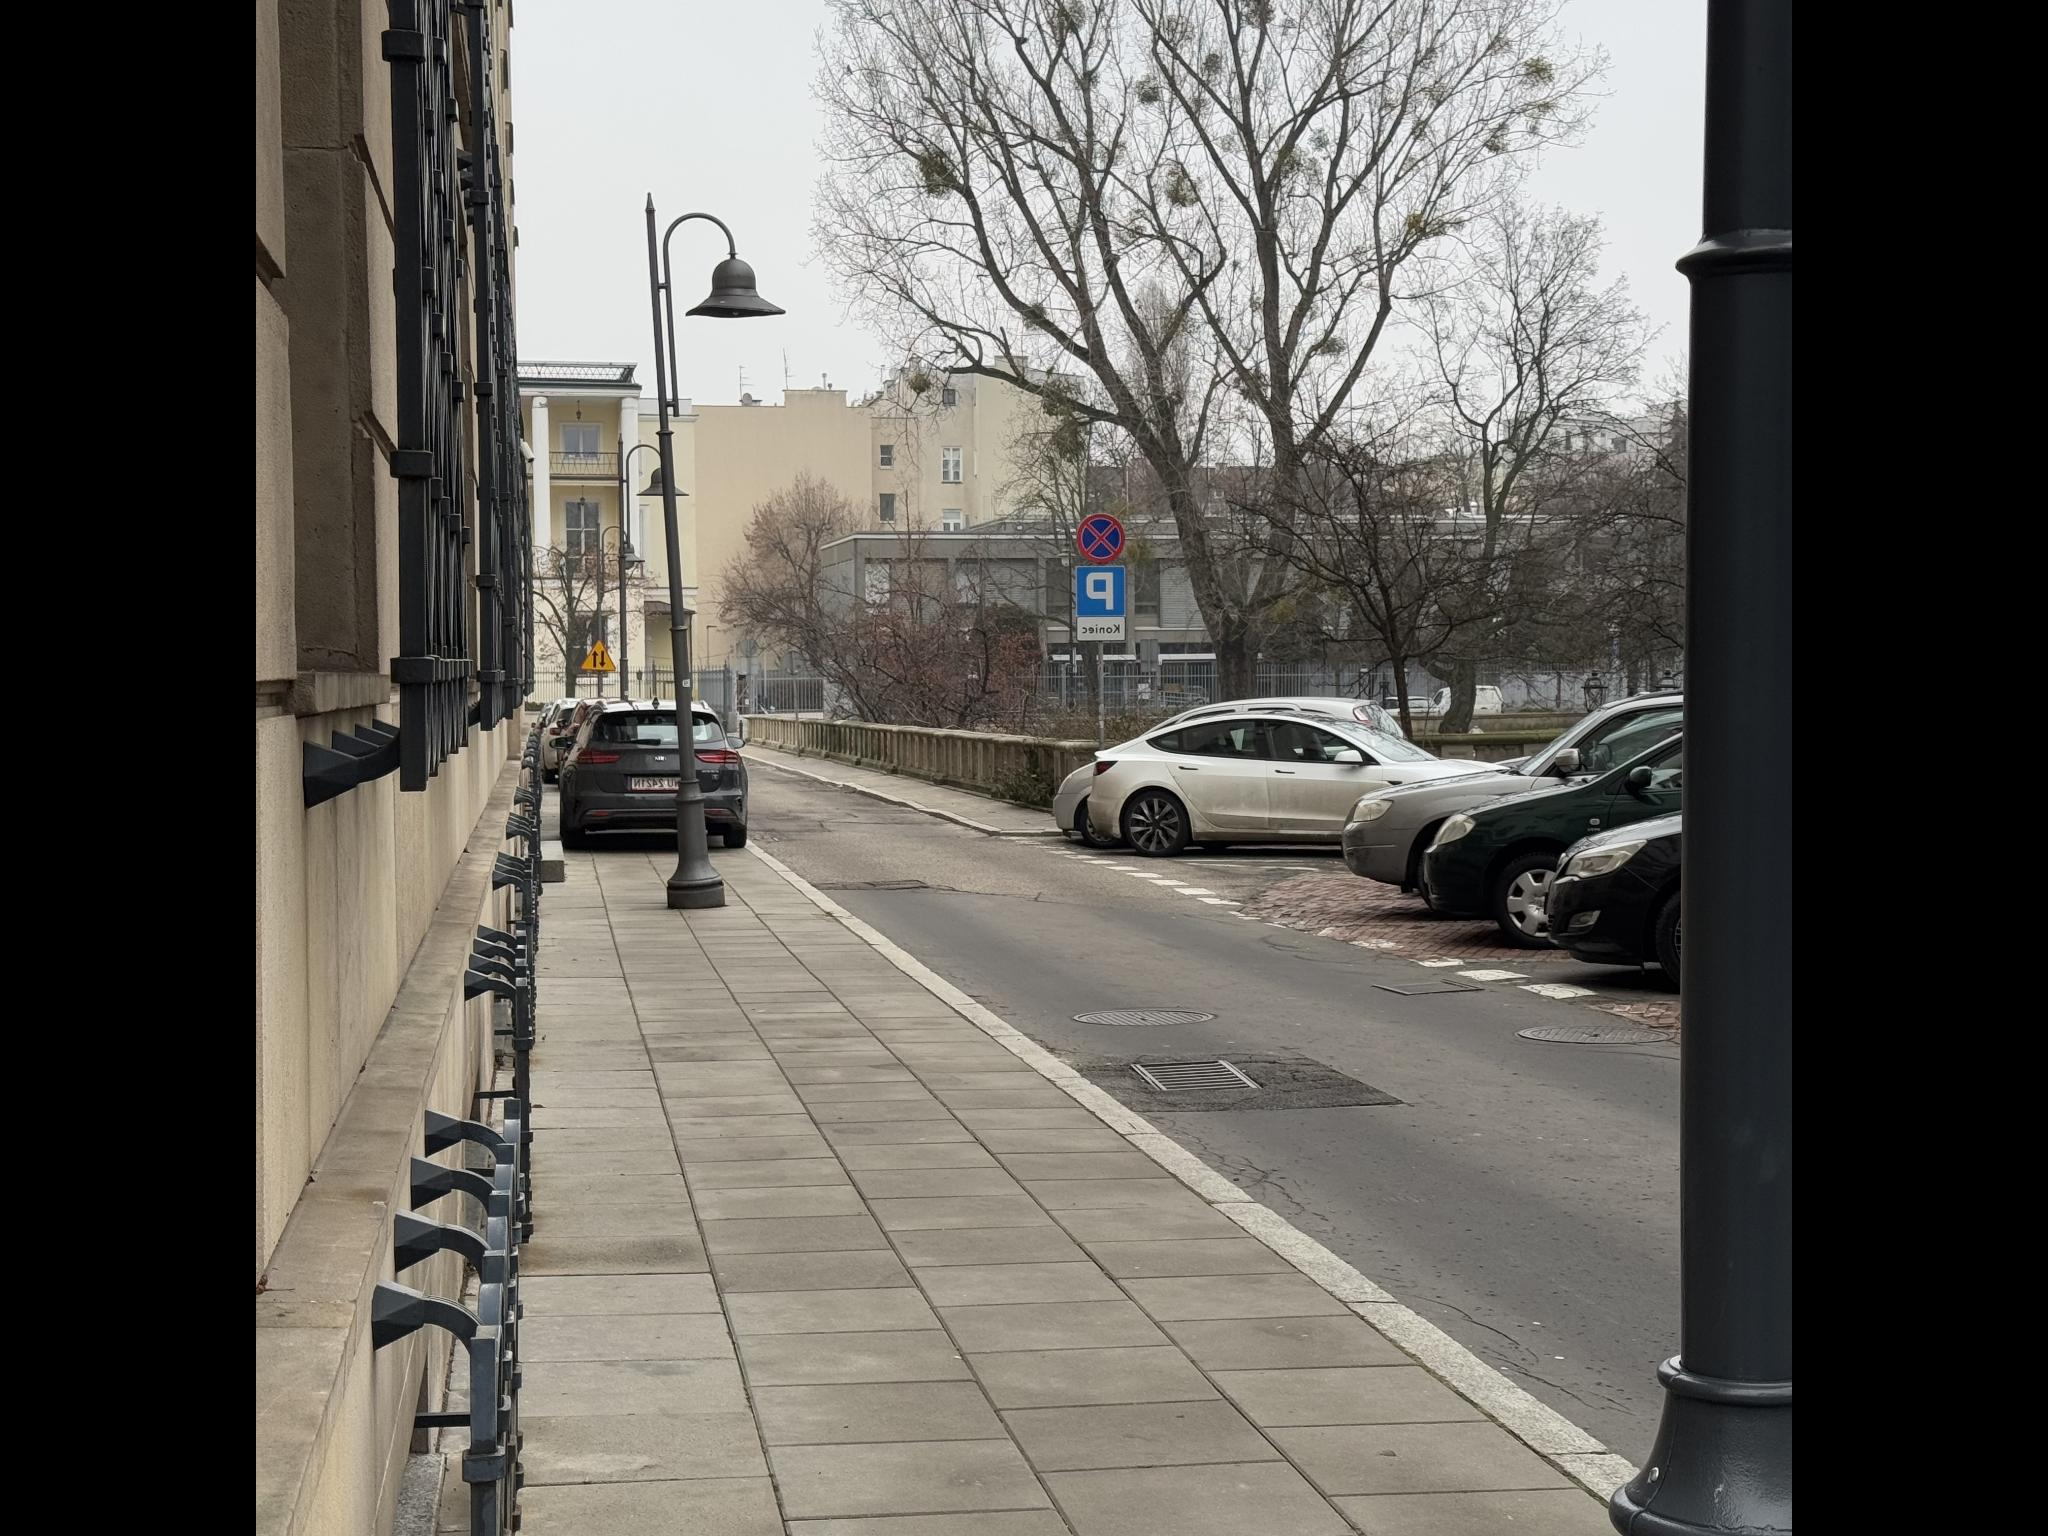information: (1076, 410, 1126, 460)
other: (1127, 408, 1153, 458)
prohibitory: (1022, 410, 1076, 460)
warning: (1150, 921, 1182, 955)
